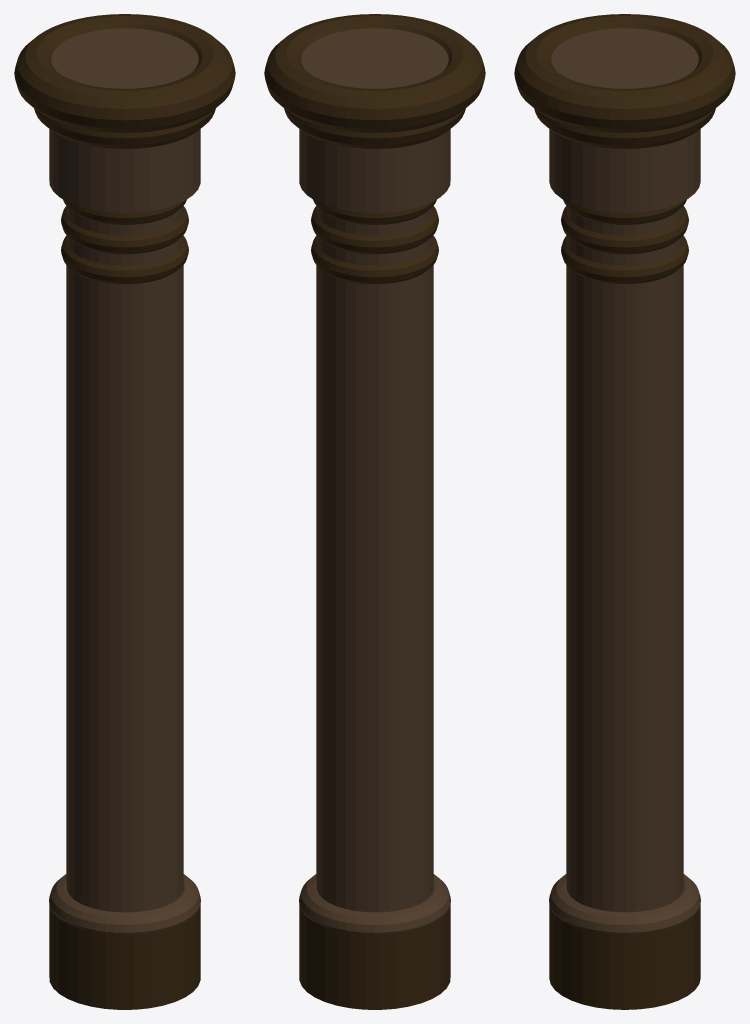
Rendered from pillar1.fbx.
3 renders of one model, left to right at view 1: azimuth 30°, elevation 25°; view 2: azimuth 150°, elevation 25°; view 3: azimuth 270°, elevation 25°, orthographic.
Visible parts, largest first — view 1: Cylinder, Cylinder.002, Torus.001, Cylinder.001, Torus.007, Torus.002, Torus.006, Torus.004, Torus.003; view 2: Cylinder, Cylinder.002, Torus.001, Cylinder.001, Torus.007, Torus.002, Torus.006, Torus.004, Torus.003; view 3: Cylinder, Cylinder.002, Torus.001, Cylinder.001, Torus.007, Torus.002, Torus.004, Torus.006, Torus.003.
Boxes of the visible parts, x1,y1,x2,y2 form: Cylinder: (66, 206, 183, 912); Cylinder.002: (49, 28, 200, 212); Torus.001: (14, 14, 235, 132); Cylinder.001: (49, 905, 200, 1009); Torus.007: (49, 874, 200, 934); Torus.002: (34, 108, 215, 148); Torus.006: (61, 236, 188, 284); Torus.004: (61, 206, 188, 254); Torus.003: (63, 199, 186, 224); Cylinder: (316, 206, 433, 912); Cylinder.002: (299, 28, 450, 212); Torus.001: (264, 14, 485, 132); Cylinder.001: (299, 905, 450, 1009); Torus.007: (299, 874, 450, 934); Torus.002: (284, 108, 465, 148); Torus.006: (311, 236, 438, 284); Torus.004: (311, 206, 438, 254); Torus.003: (313, 199, 436, 224); Cylinder: (566, 206, 683, 911); Cylinder.002: (549, 28, 700, 212); Torus.001: (514, 14, 735, 132); Cylinder.001: (549, 905, 700, 1009); Torus.007: (549, 874, 700, 934); Torus.002: (534, 108, 715, 148); Torus.004: (561, 206, 688, 254); Torus.006: (561, 236, 688, 283); Torus.003: (563, 199, 686, 224).
Size of the model in its own units: 298 by 1372 by 298.
